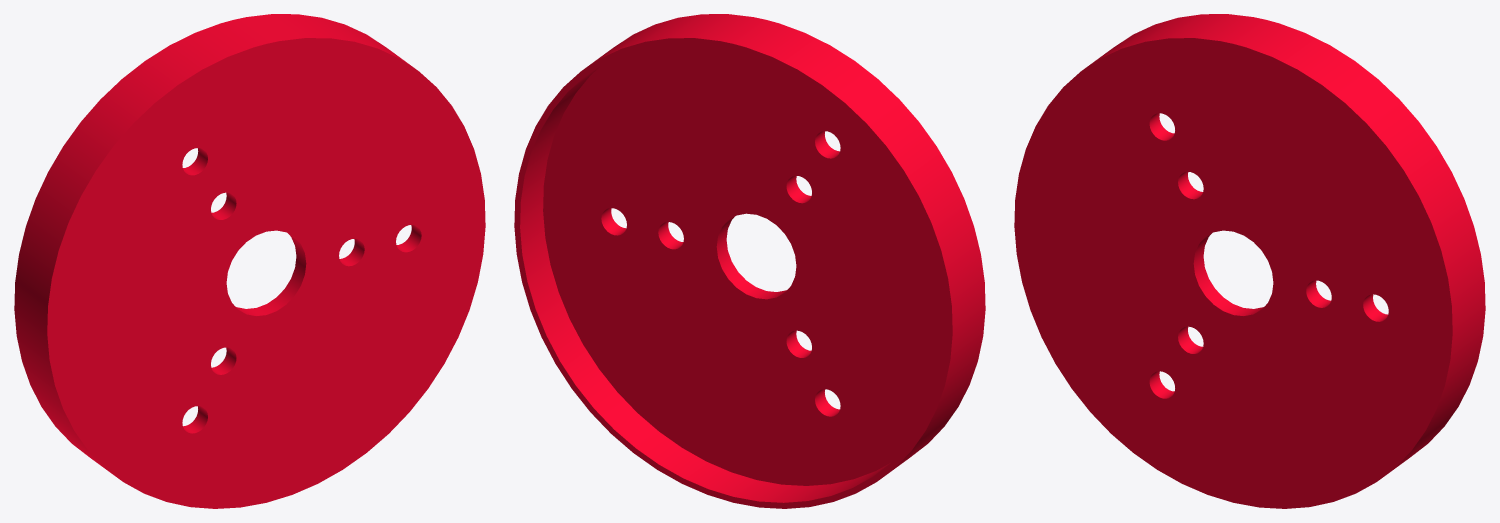
Rendered from forcesensor_mount_bottom.dae.
3 renders of one model, left to right at view 1: azimuth 30°, elevation 25°; view 2: azimuth 150°, elevation 25°; view 3: azimuth 330°, elevation 25°, orthographic.
Parts seen in each view (by area): view 1: mesh_1_forcesensor_podnozje; view 2: mesh_1_forcesensor_podnozje; view 3: mesh_1_forcesensor_podnozje.
Boxes of the visible parts, box(x1,y1,x2,y2) form: mesh_1_forcesensor_podnozje: box(14, 14, 485, 508); mesh_1_forcesensor_podnozje: box(514, 14, 985, 508); mesh_1_forcesensor_podnozje: box(1014, 14, 1485, 508).
Bounding box in the file's own units: 0.077 × 0.01 × 0.077.
